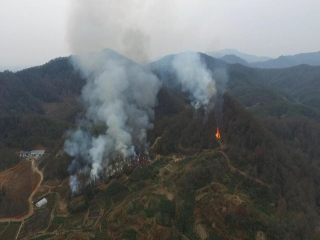smoke: (59, 2, 162, 194), (172, 43, 226, 121)
